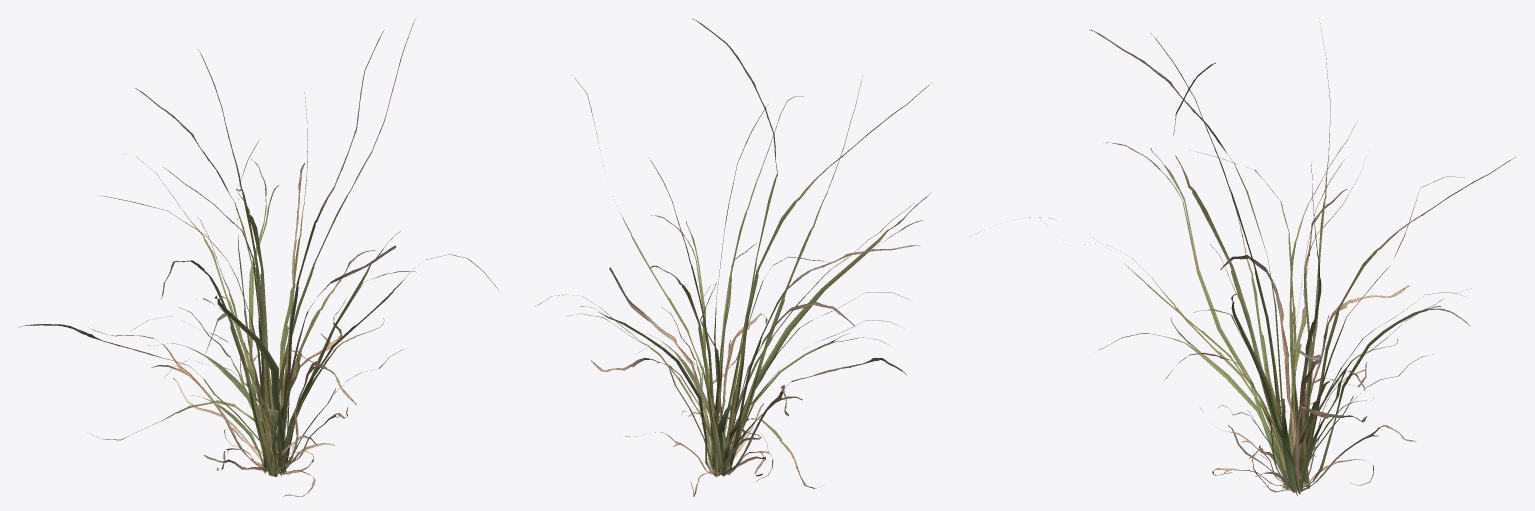
The model's file is grass_medium_02_e.gltf.
The picture shows the model from 3 angles, left to right: view 1: azimuth 30°, elevation 25°; view 2: azimuth 150°, elevation 25°; view 3: azimuth 270°, elevation 25°; orthographic projection. The views are drawn at different scales.
Parts seen in each view (by area): view 1: grass_medium_02_e__x; view 2: grass_medium_02_e__x; view 3: grass_medium_02_e__x.
Part boxes in pixels (left/top/right/bottom): grass_medium_02_e__x: left=19, top=18, right=500, bottom=496; grass_medium_02_e__x: left=535, top=18, right=931, bottom=496; grass_medium_02_e__x: left=976, top=21, right=1515, bottom=495.
Bounding box in the file's own units: 0.3556 × 0.4032 × 0.4332.
1 material, 1 textured.
